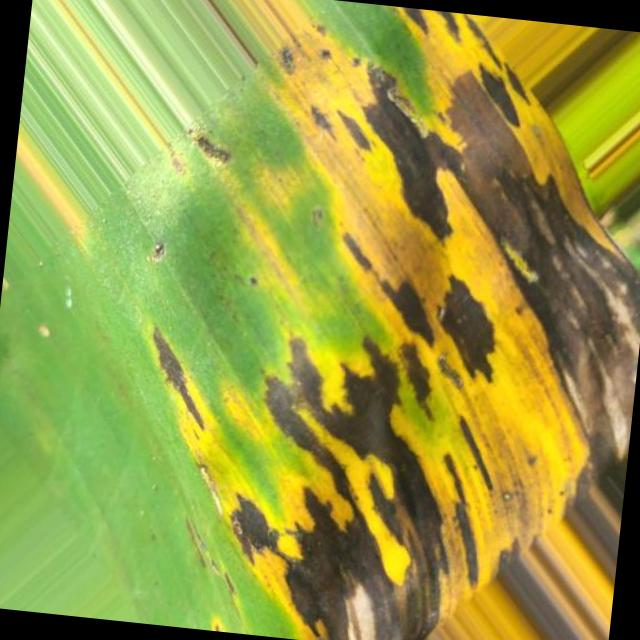Banana_Black_Sigatoka: (203, 10, 640, 640)
